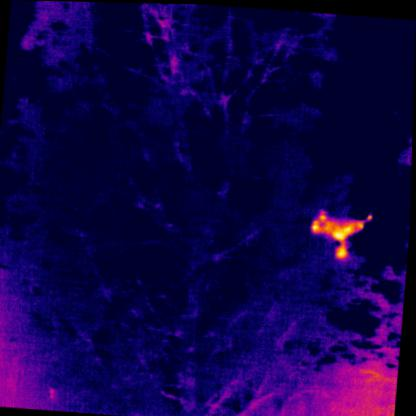drone: (309, 203, 375, 259)
